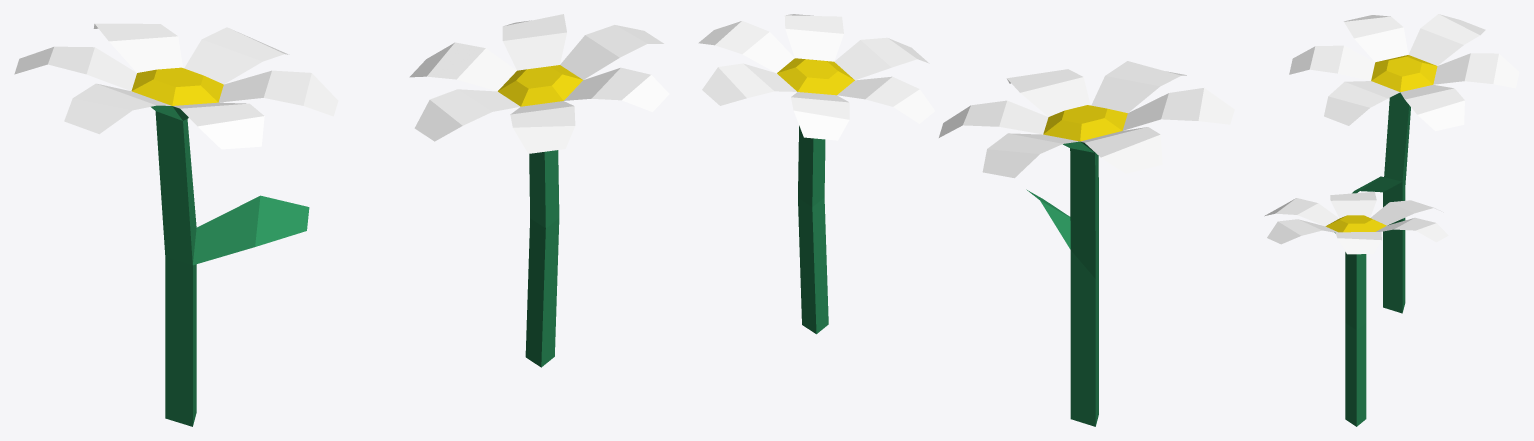
The model's file is flower2.glb.
The picture shows the model from 3 angles, left to right: view 1: azimuth 30°, elevation 25°; view 2: azimuth 150°, elevation 25°; view 3: azimuth 270°, elevation 25°; orthographic projection. The views are drawn at different scales.
Parts seen in each view (by area): view 1: Circle.006_Circle.007, Circle.001; view 2: Circle.006_Circle.007, Circle.001; view 3: Circle.006_Circle.007, Circle.001.
Boxes of the visible parts, left/top/right/bottom form: Circle.006_Circle.007: left=14, top=23, right=338, bottom=426; Circle.001: left=409, top=14, right=669, bottom=367; Circle.006_Circle.007: left=939, top=61, right=1234, bottom=426; Circle.001: left=698, top=14, right=934, bottom=334; Circle.006_Circle.007: left=1289, top=14, right=1519, bottom=313; Circle.001: left=1264, top=191, right=1448, bottom=426.
Size of the model in its own units: 56.53 by 33.38 by 30.18.
Materials: 1 (1 with a texture image).
